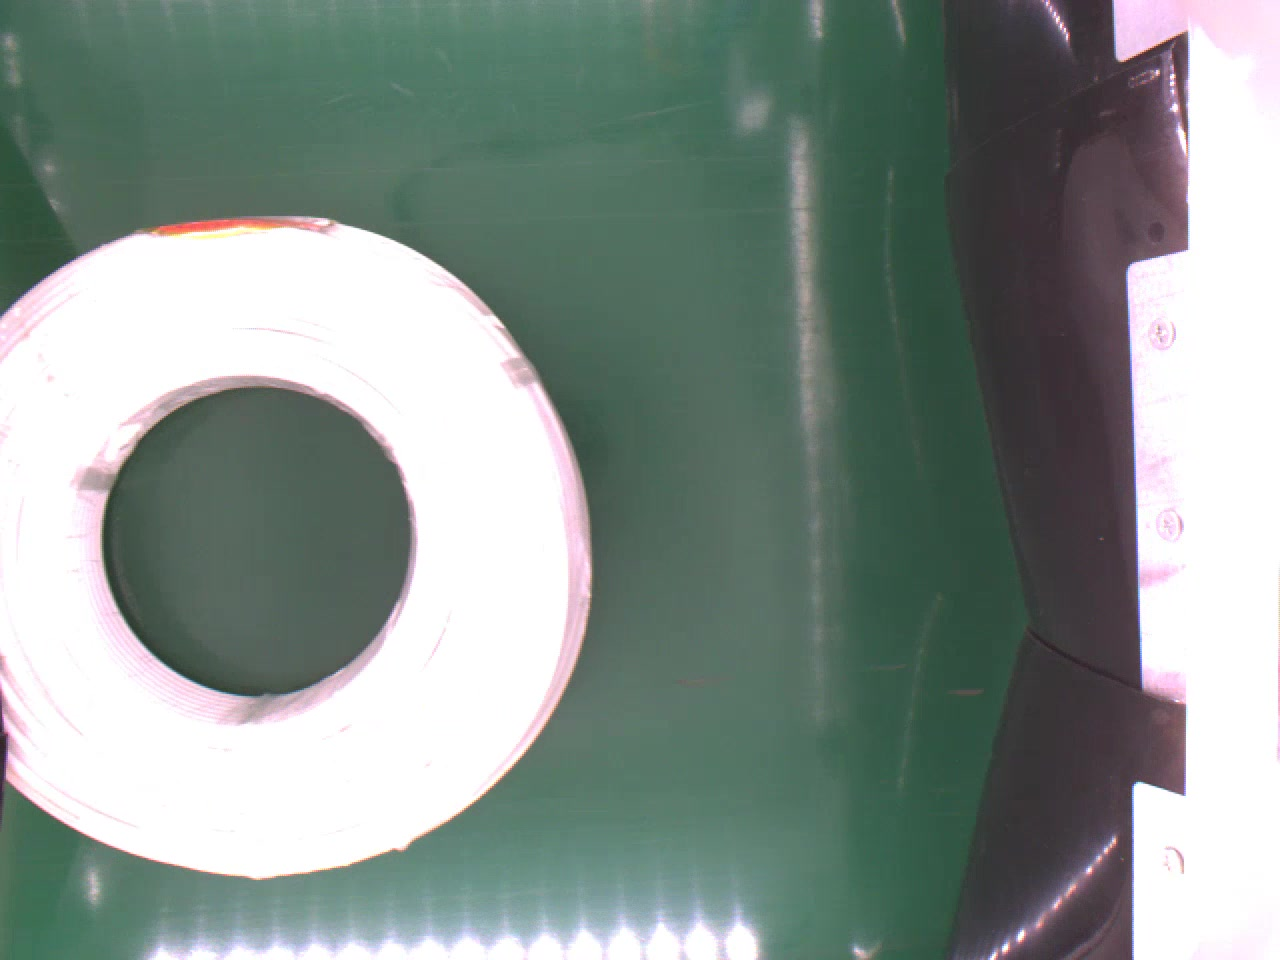white: (0, 206, 596, 881)
